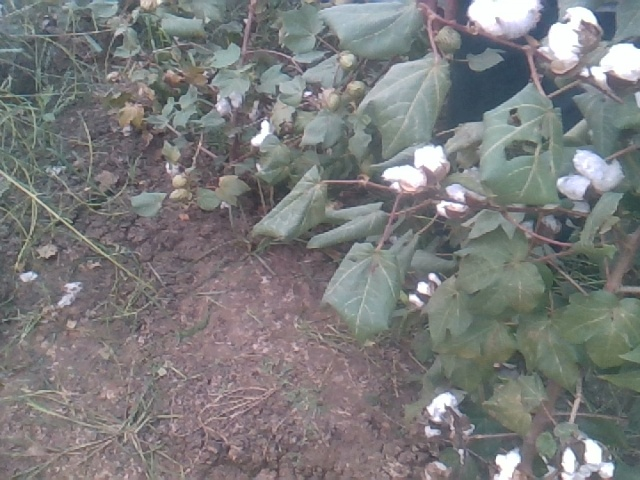cotton: (554, 146, 624, 202), (547, 4, 605, 68), (383, 145, 451, 194), (464, 3, 550, 35), (421, 391, 467, 446), (595, 39, 640, 85), (557, 438, 611, 476), (407, 272, 443, 309), (436, 184, 468, 218), (494, 451, 525, 480), (250, 118, 268, 148)
